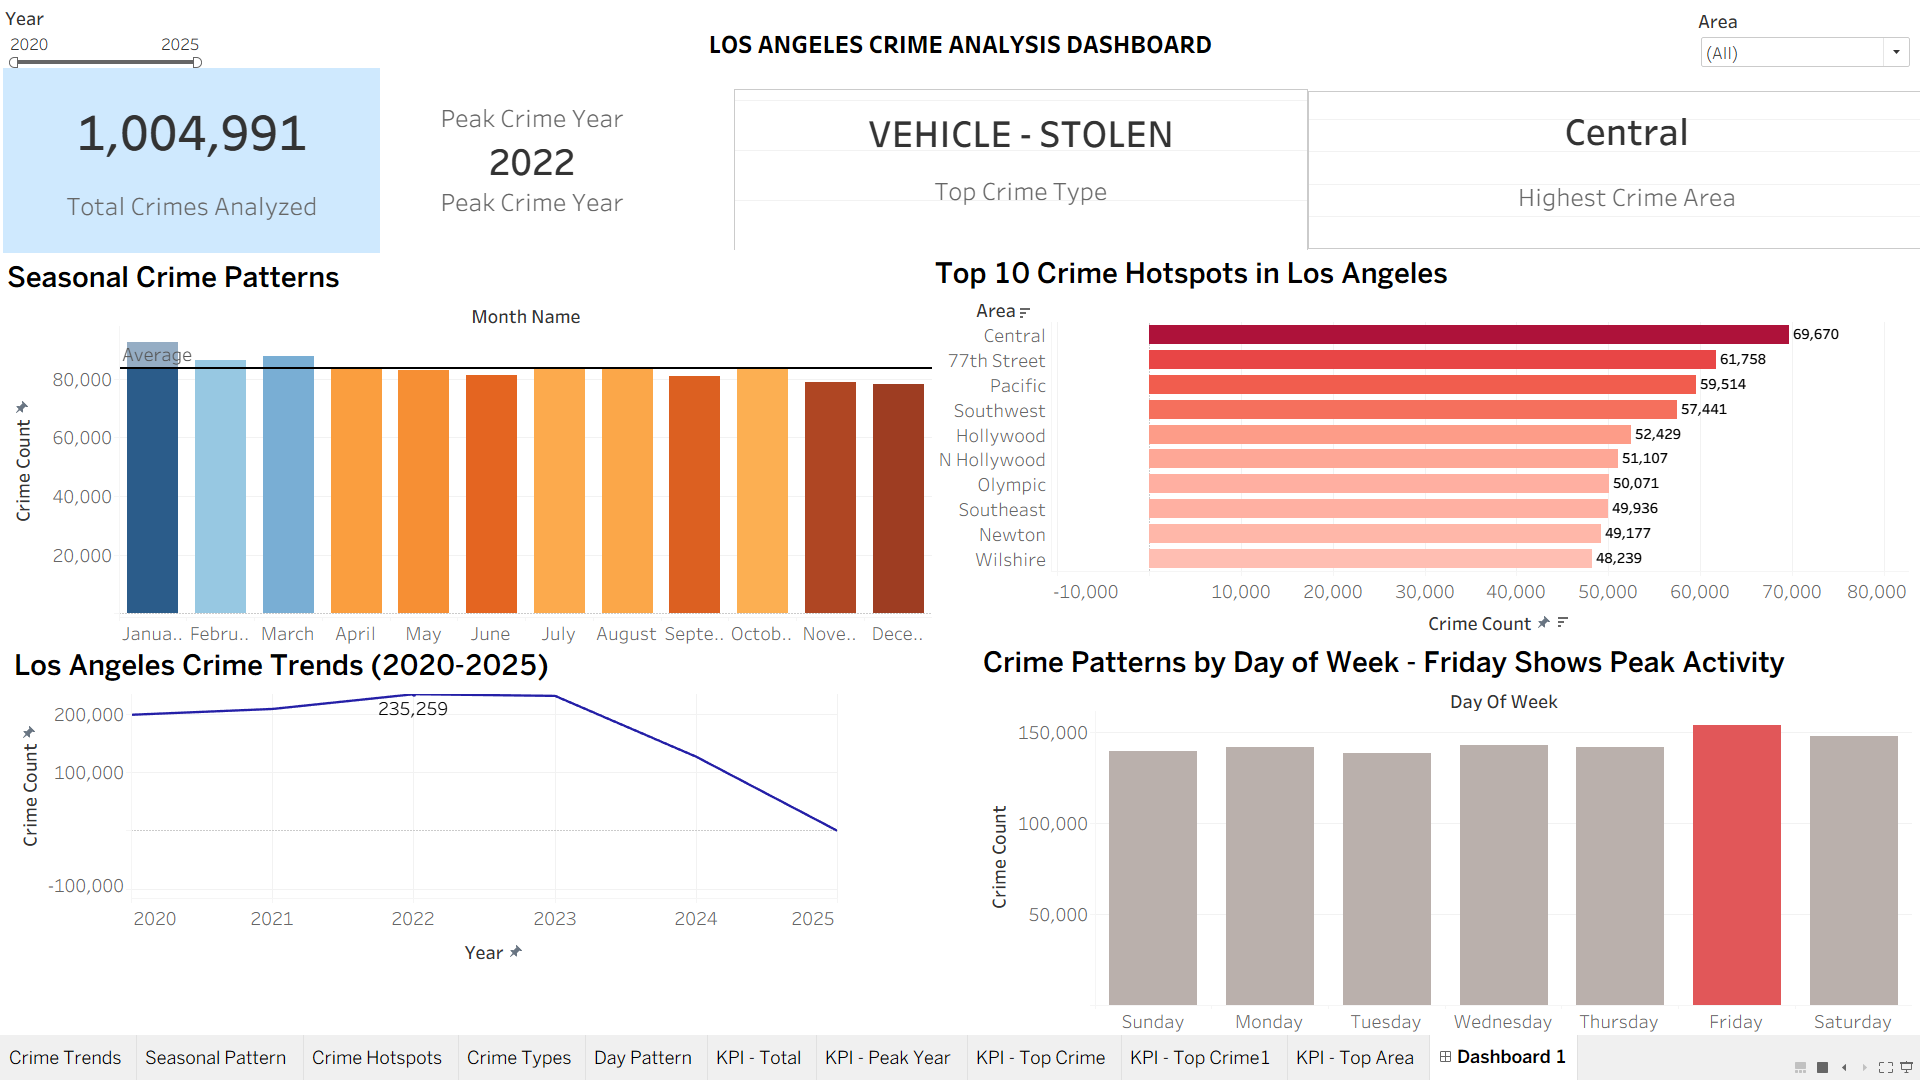

Layout of this report page (visuals, bound fields, positions):
{"tool":"tableau","page":{"name":"Dashboard 1","canvas":[1000,1000],"units":"permille","ordinal":0},"visuals":[{"type":"text","box":[0.6,1.2,999.4,81.9]},{"type":"filter","title":"Crime Trends","param":"[federated.0o2vv3r1bm7i4v1ak22dh1f2tsgf].[none:Year:qk]","box":[2.4,5,104.9,78.2]},{"type":"filter","title":"Crime Hotspots","param":"[federated.0o2vv3r1bm7i4v1ak22dh1f2tsgf].[none:Area:nk]","box":[884.2,7.4,112.2,78.2]},{"type":"worksheet","title":"KPI - Total","mark":"Automatic","box":[1.8,65.8,196.5,178.7]},{"type":"worksheet","title":"KPI - Peak Year","mark":"Automatic","box":[225,75.7,198.9,332.5]},{"type":"worksheet","title":"KPI - Top Crime1","mark":"Text","rows":["Crime_Type","Crime_Count"],"box":[382.1,85.6,299,156.3]},{"type":"worksheet","title":"Crime Hotspots","mark":"Automatic","rows":["Area"],"cols":["Crime_Count"],"box":[485.1,244.4,509.4,375.9]},{"type":"worksheet","title":"Seasonal Pattern","mark":"Bar","rows":["Crime_Count"],"cols":["Month_Name"],"box":[1.8,248.1,483.9,375.9]},{"type":"worksheet","title":"Day Pattern","mark":"Automatic","rows":["Crime_Count"],"cols":["DayOfWeek"],"box":[510,620.4,485.8,378.4]}]}

Visuals, with their boxes on the dashboard's canvas, which has no fixed pixel size, in thousandths of its width and height (x1, y1, x2, y2). These are canvas units, not pixel positions in the 1920x1080 screenshot, which may show the page scaled, cropped or inside an application window:
text: (1, 1, 1000, 83)
"Crime Trends" filter: (2, 5, 107, 83)
"Crime Hotspots" filter: (884, 7, 996, 86)
"KPI - Total" worksheet: (2, 66, 198, 244)
"KPI - Peak Year" worksheet: (225, 76, 424, 408)
"KPI - Top Crime1" worksheet (Text marks): (382, 86, 681, 242)
"Crime Hotspots" worksheet: (485, 244, 994, 620)
"Seasonal Pattern" worksheet (Bar marks): (2, 248, 486, 624)
"Day Pattern" worksheet: (510, 620, 996, 999)
